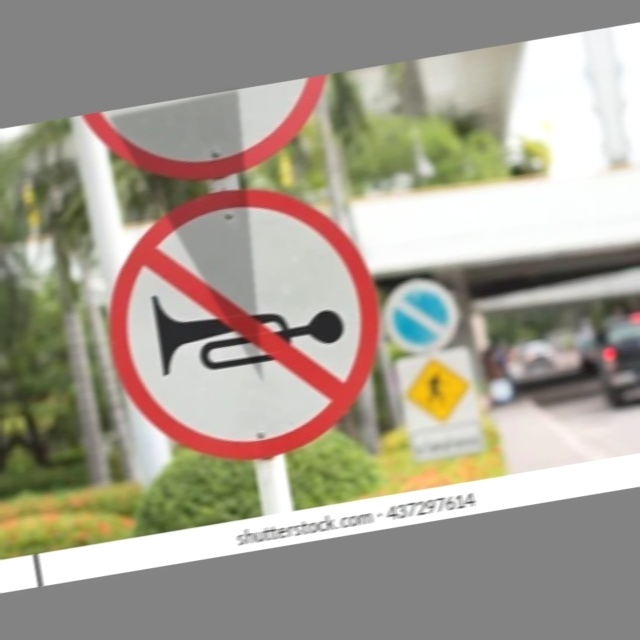Horn_Prohibited: (88, 170, 399, 476)
